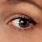eye: (19, 19, 29, 27)
